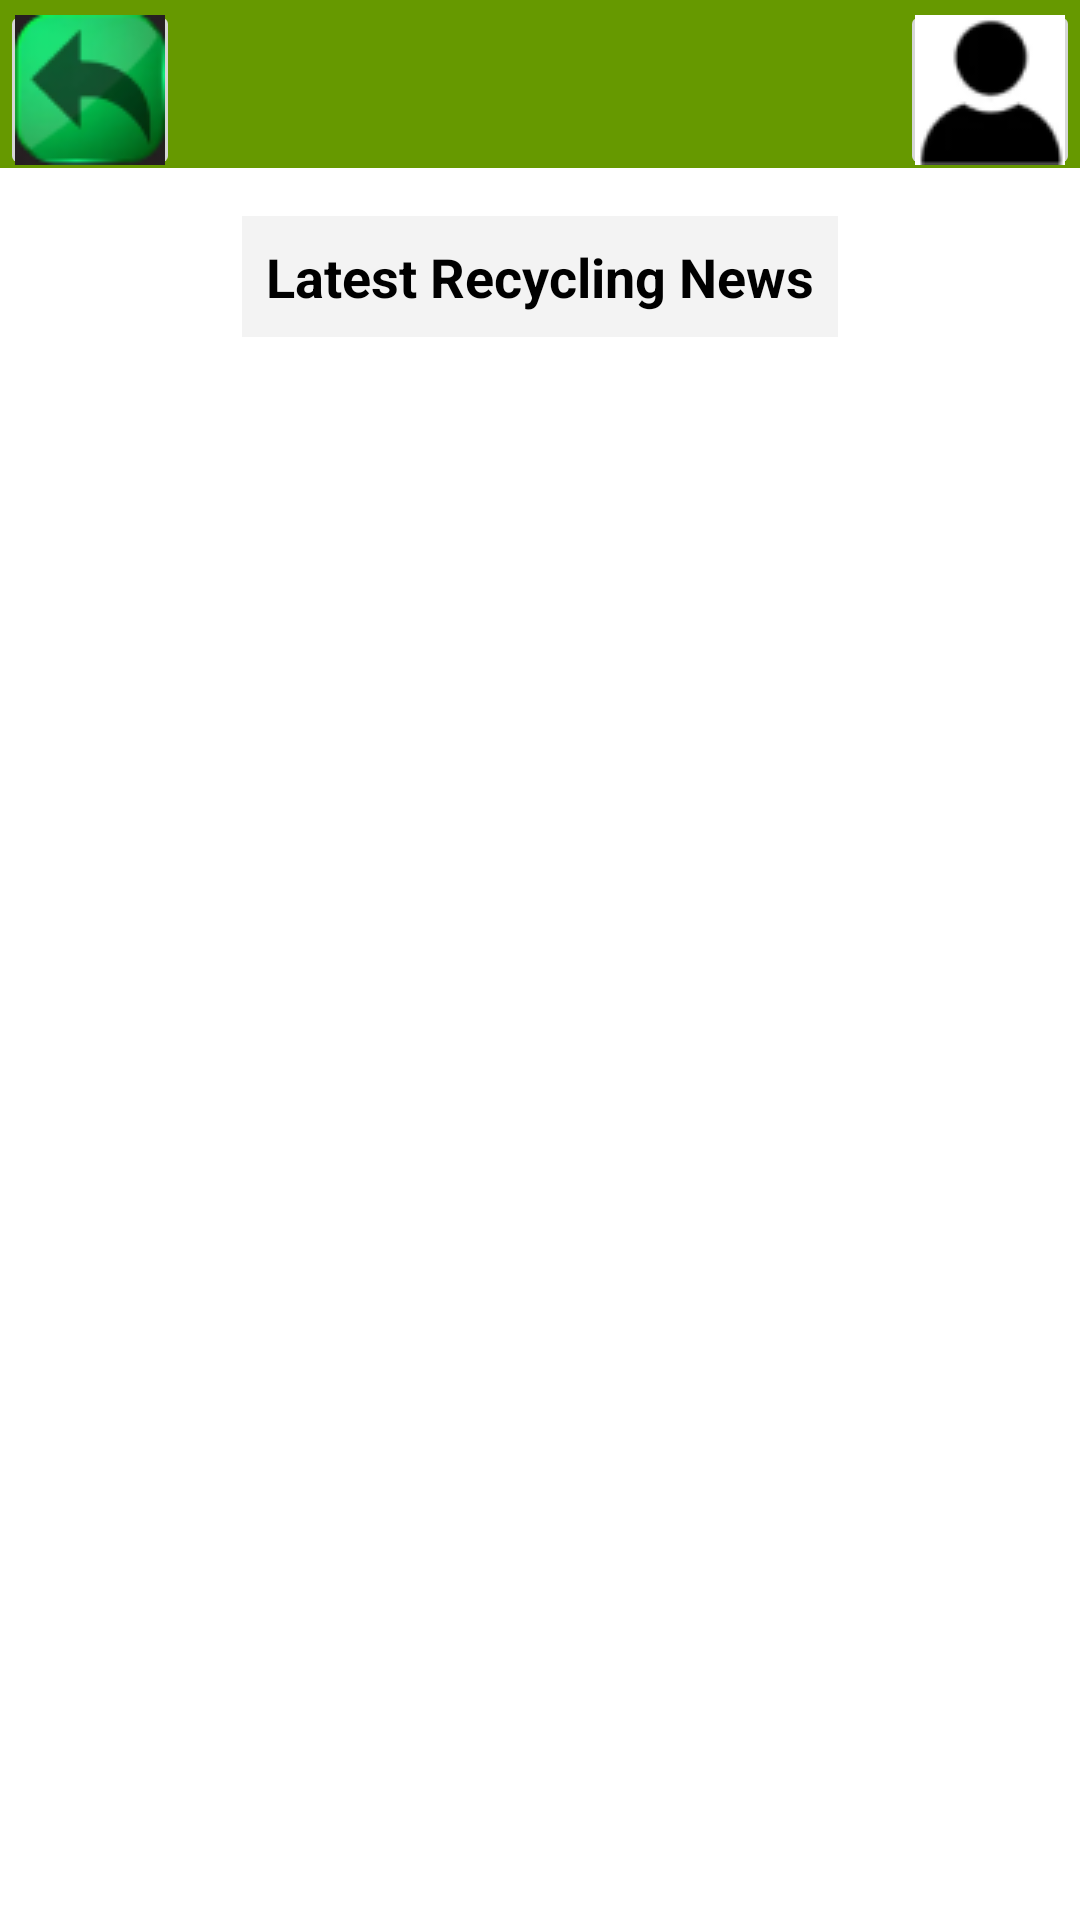

Point at icon controls on the screen. Image size 1080px x 1920px, points as (x=x, y=y).
account: (x=990, y=90)
back: (x=90, y=90)
